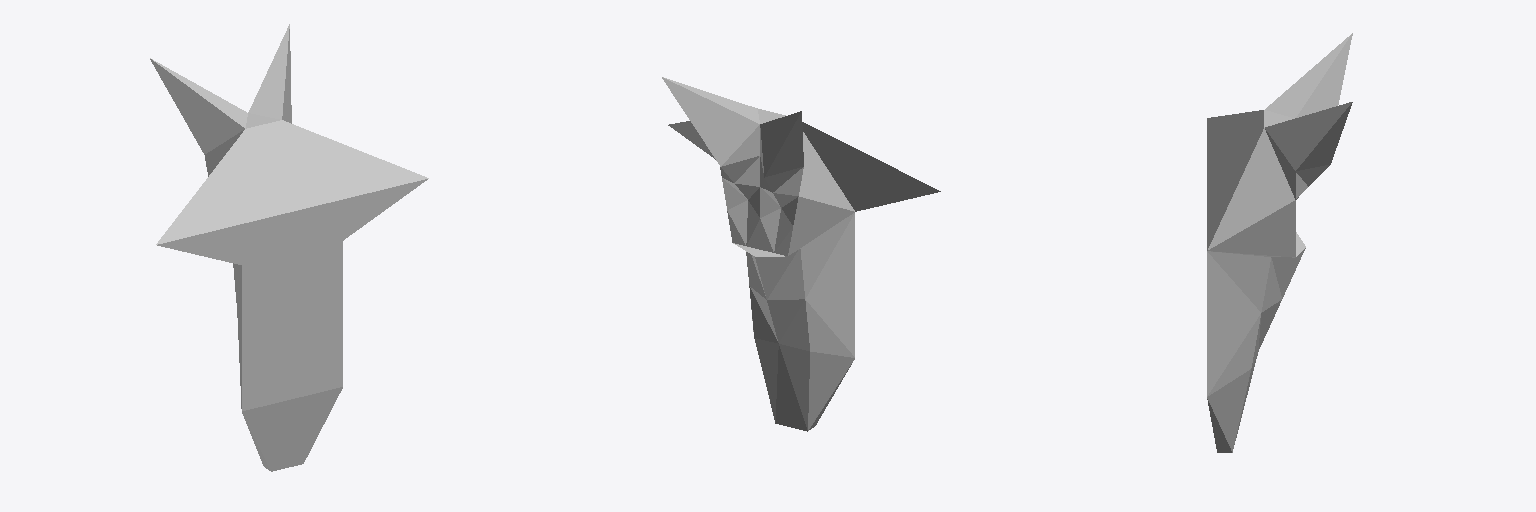
File: car.obj
3 views of the same model, side by side, from view 1: azimuth 30°, elevation 25°; view 2: azimuth 150°, elevation 25°; view 3: azimuth 270°, elevation 25° (orthographic).
Visible parts, largest first — view 1: Cube; view 2: Cube; view 3: Cube.
Boxes of the visible parts, x1=… form: Cube: x1=150, y1=24, x2=428, y2=471; Cube: x1=662, y1=77, x2=940, y2=431; Cube: x1=1207, y1=33, x2=1352, y2=452.
Size of the model in its own units: 5.38 by 7.09 by 2.49.